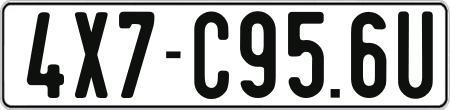4: (24, 9, 63, 100)
5: (286, 9, 325, 100)
6: (351, 9, 392, 97)
7: (116, 9, 152, 95)
9: (240, 10, 277, 100)
C: (194, 10, 230, 97)
U: (398, 9, 433, 103)
X: (73, 9, 108, 101)
